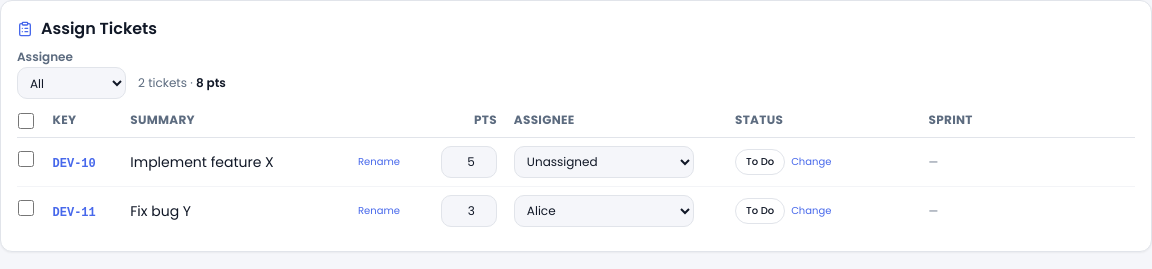
Scenario: AssignmentList — v1.69 (ADR-080) rename › Cancel reverts to the original summary without writing
Expected: the text "Implement feature X" is shown, [130, 152, 274, 172]
Click the button with aria-label "Rename DEV-10" at (379, 162), box [358, 152, 400, 172]
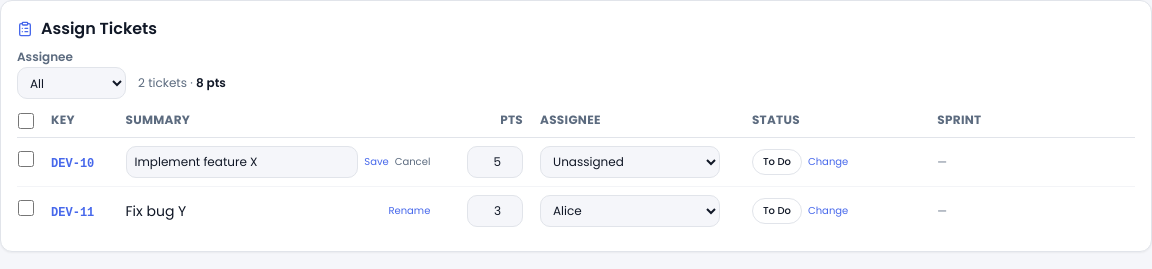
Replace the text in the field named "New summary for DEV-10" with "Something else entirely" at (242, 162), box [126, 146, 358, 178]
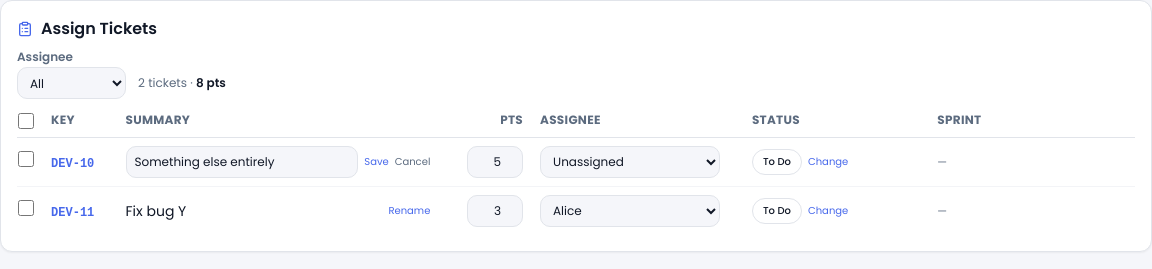
Click the button with aria-label "Cancel rename for DEV-10" at (412, 162), box [395, 152, 430, 172]
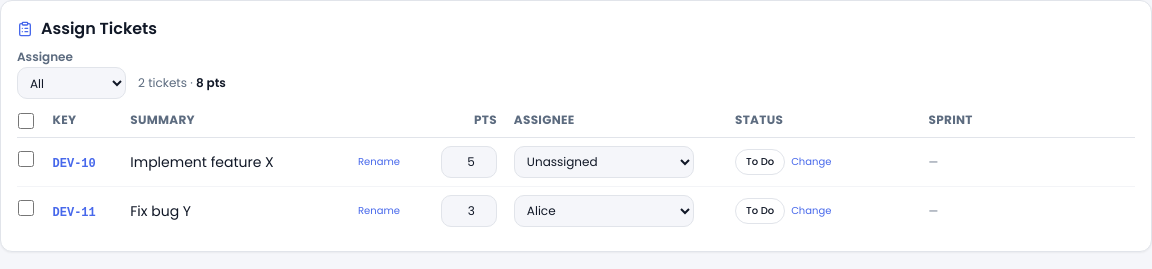
Now the text "Implement feature X" is shown, box [130, 152, 274, 172]
